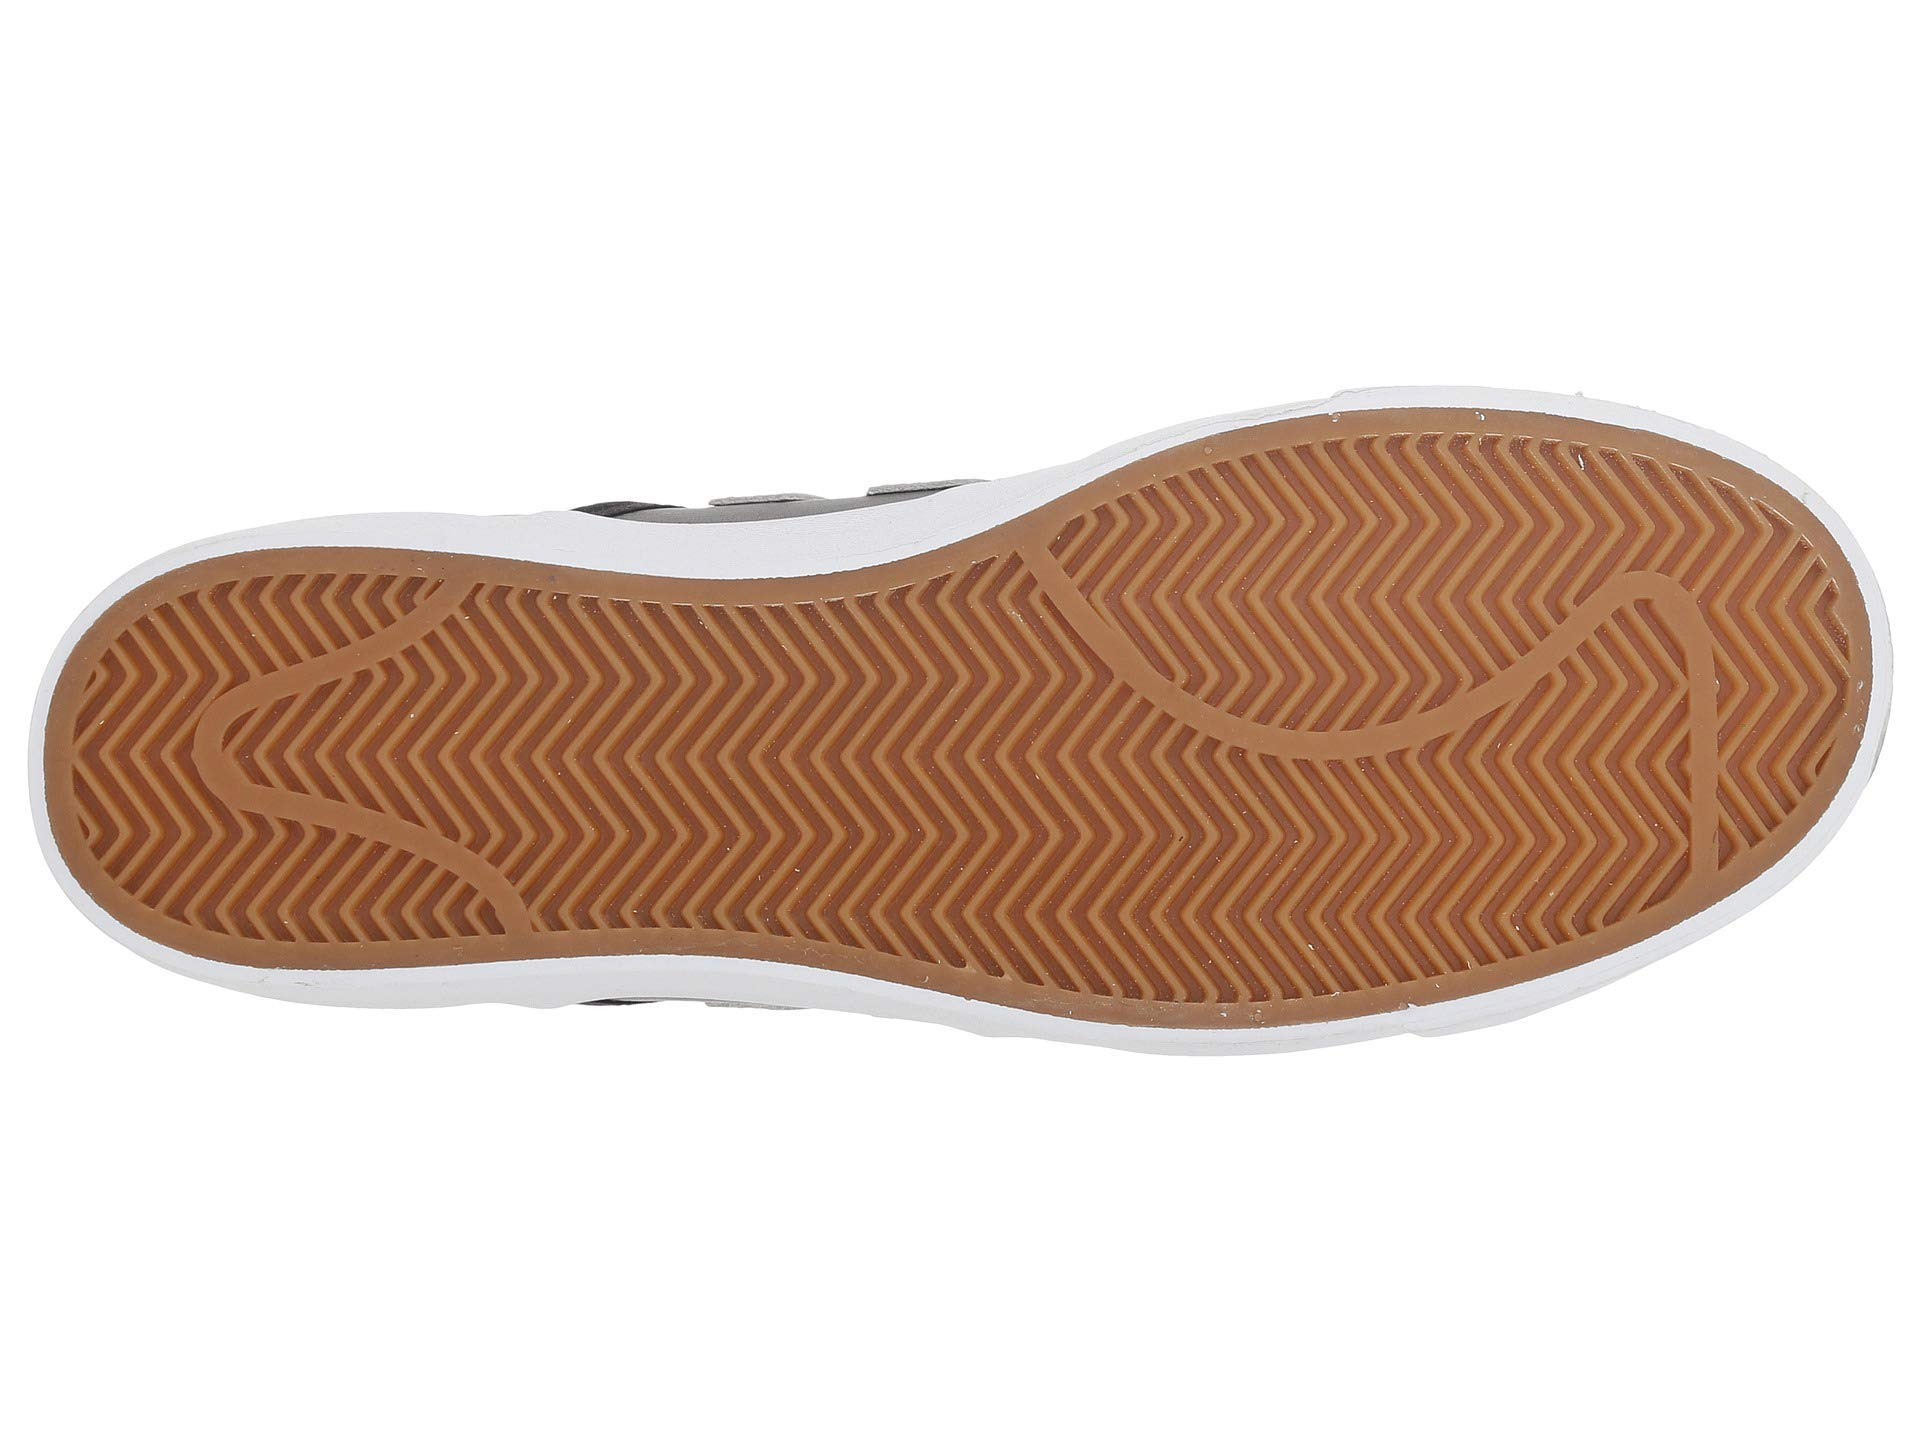chevron: (1246, 470, 1791, 867), (463, 596, 1030, 832)
line: (1246, 470, 1791, 867)
